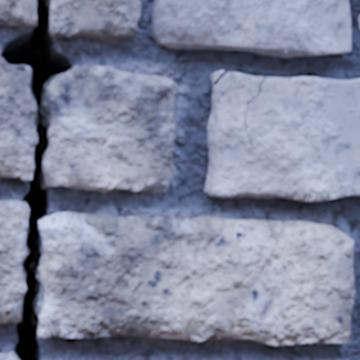brick: (205, 72, 359, 200), (152, 0, 351, 57), (211, 71, 222, 80)
broken_brick: (39, 211, 355, 346), (46, 66, 179, 195), (0, 59, 36, 180), (51, 0, 143, 45), (0, 199, 27, 324), (0, 0, 35, 27), (0, 350, 16, 359)
crack: (0, 0, 74, 359), (244, 77, 266, 149), (214, 70, 227, 85), (350, 239, 353, 250)
